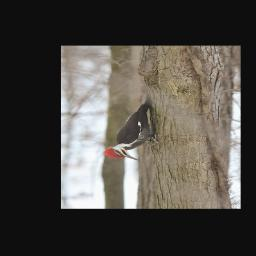Woodpecker: (102, 89, 163, 161)
